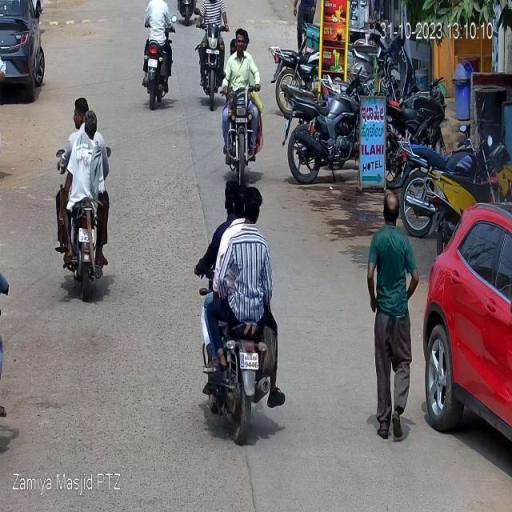tripple riding: (194, 175, 279, 319)
